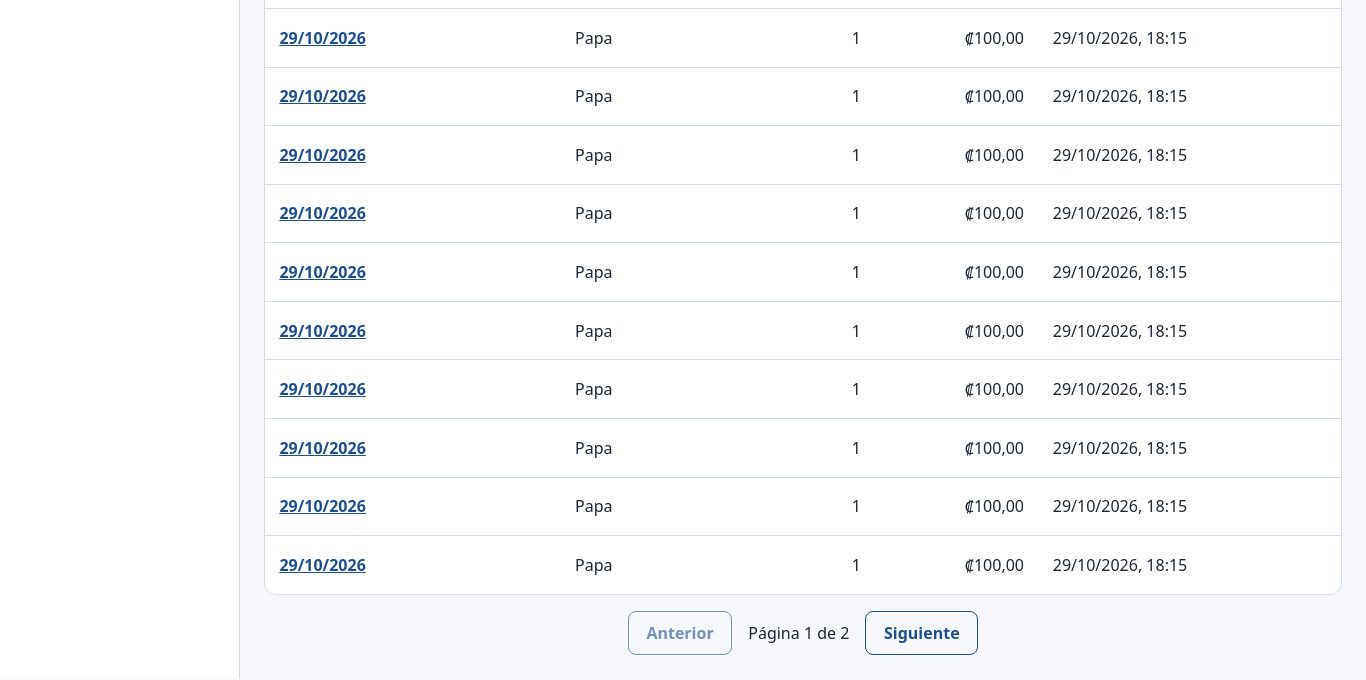
Test: compras: lista › pagina de a 20 y permite avanzar y retroceder
This screenshot has width=1366, height=680.
(page scrolled)
Expected: the button "Anterior" is disabled, top-left (628, 611), bottom-right (732, 655)
Click the button "Siguiente" at (922,633), box top-left (865, 611), bottom-right (978, 655)
(page scrolled)
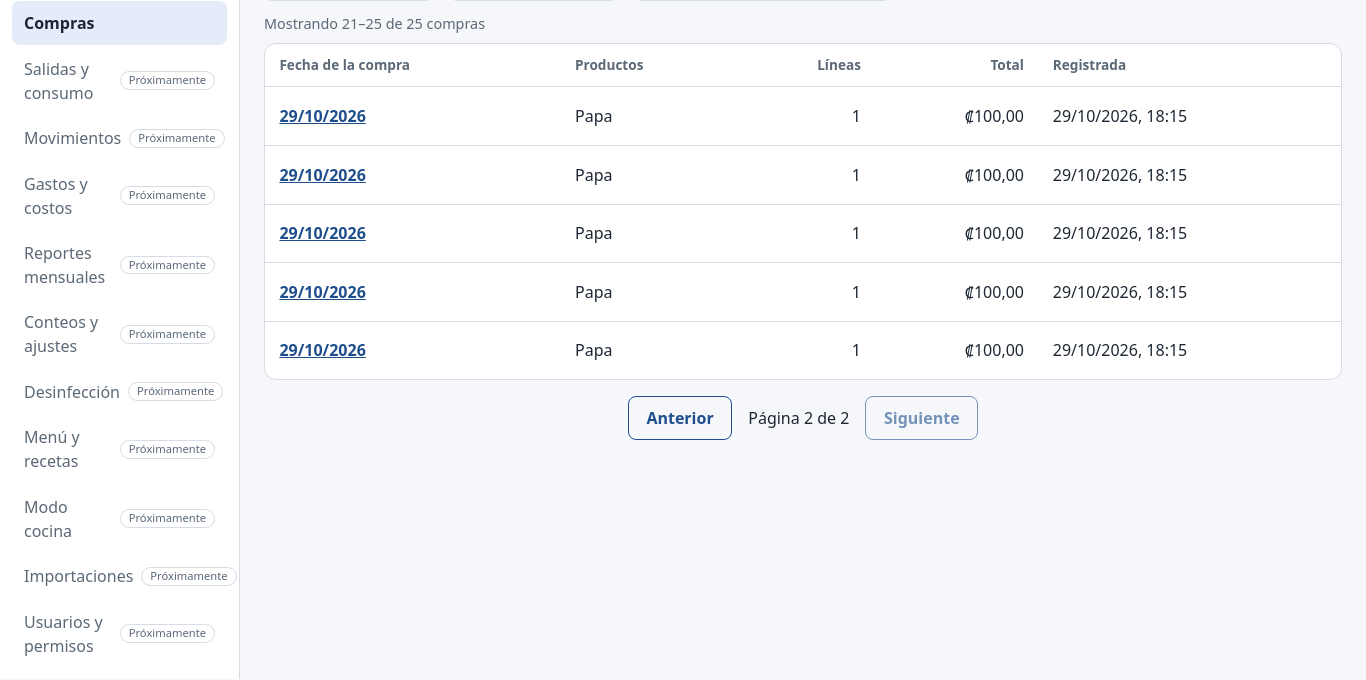
Now the text "Mostrando 21–25 de 25 compras" is shown, box top-left (264, 14), bottom-right (485, 33)
Now the text "Página 2 de 2" is shown, box top-left (748, 406), bottom-right (850, 430)
Click the button "Anterior" at (680,418), box top-left (628, 396), bottom-right (732, 440)
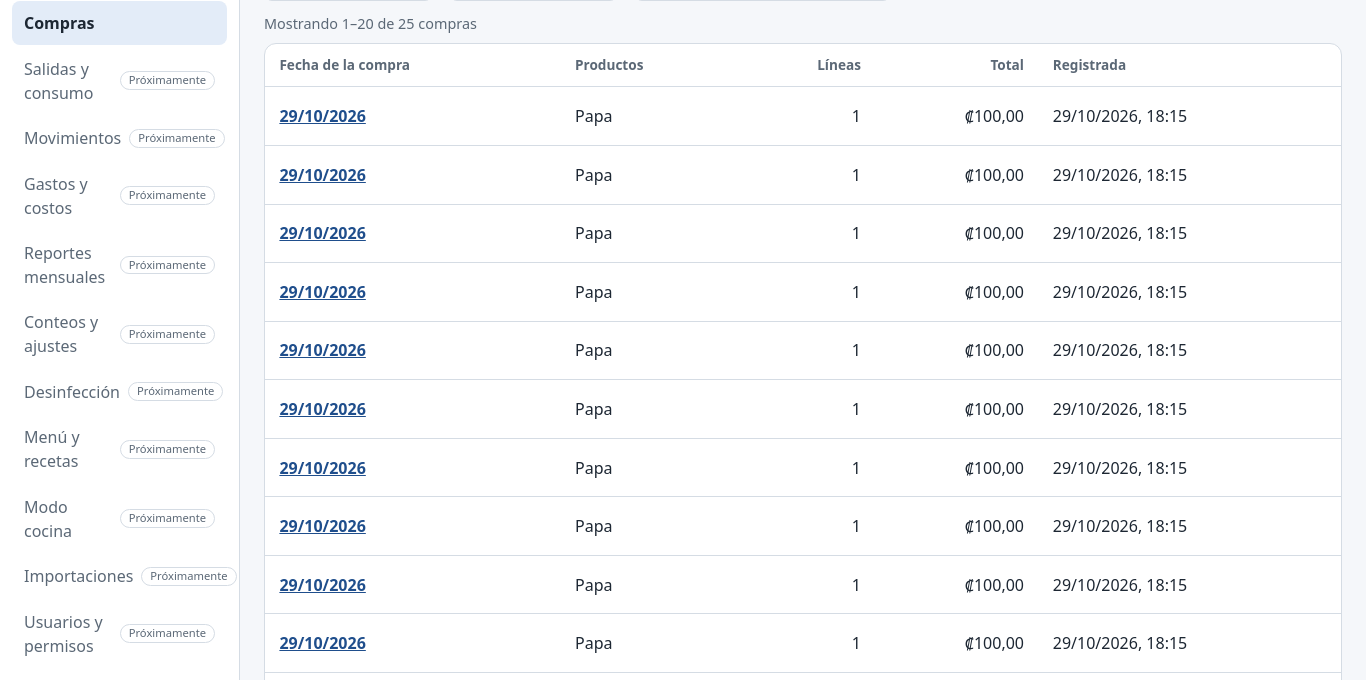
Now the text "Mostrando 1–20 de 25 compras" is shown, box top-left (264, 14), bottom-right (477, 33)
